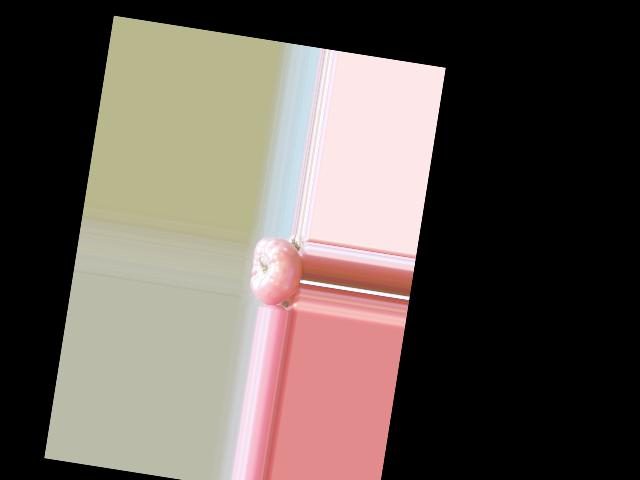tomato: (246, 234, 306, 310)
